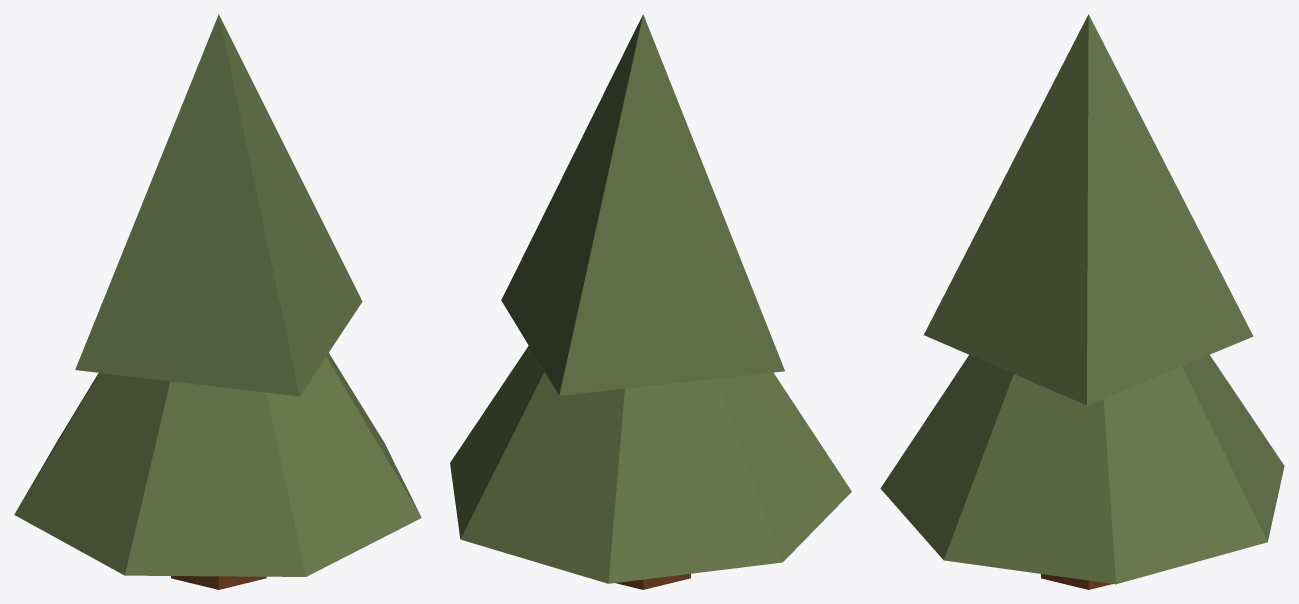
The model's file is tree1.glb.
3 views of the same model, side by side, from view 1: azimuth 30°, elevation 25°; view 2: azimuth 150°, elevation 25°; view 3: azimuth 270°, elevation 25° (orthographic).
Visible parts, largest first — view 1: Plane; view 2: Plane; view 3: Plane.
Boxes of the visible parts, left/top/right/bottom form: Plane: left=14, top=14, right=421, bottom=589; Plane: left=450, top=14, right=851, bottom=589; Plane: left=880, top=14, right=1284, bottom=589.
Size of the model in its own units: 3.68 by 5.53 by 3.66.
